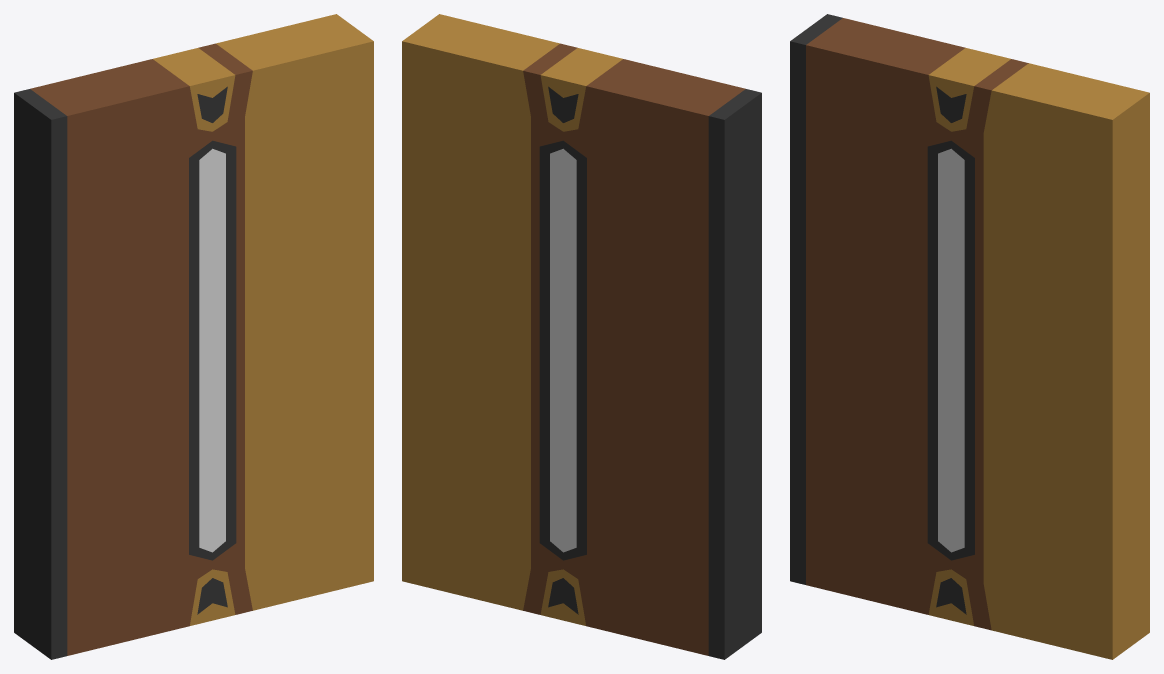
The model's file is DecoWallFrame.fbx.
3 views of the same model, side by side, from view 1: azimuth 30°, elevation 25°; view 2: azimuth 150°, elevation 25°; view 3: azimuth 330°, elevation 25° (orthographic).
Parts seen in each view (by area): view 1: Cube; view 2: Cube; view 3: Cube.
Boxes of the visible parts, bbox=[...] form: Cube: bbox=[14, 14, 373, 659]; Cube: bbox=[402, 14, 761, 659]; Cube: bbox=[790, 14, 1149, 659].
Bounding box in the file's own units: 100 × 160 × 20.
